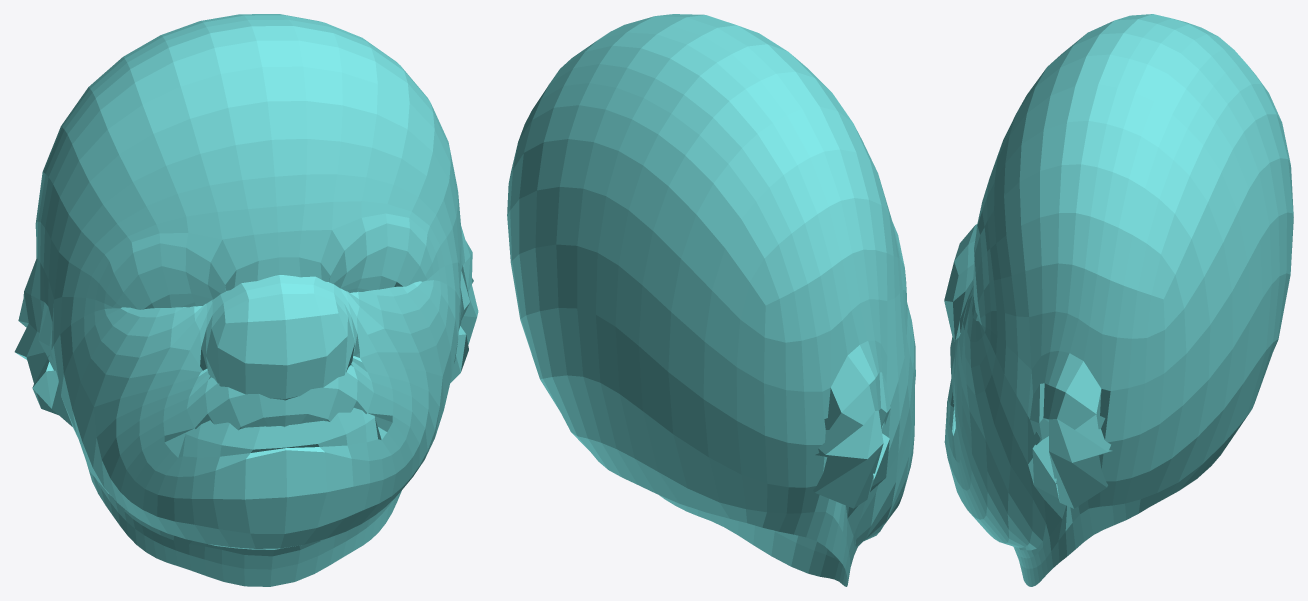
The model's file is head.fbx.
3 views of the same model, side by side, from view 1: azimuth 30°, elevation 25°; view 2: azimuth 150°, elevation 25°; view 3: azimuth 270°, elevation 25° (orthographic). The views are drawn at different scales.
Parts seen in each view (by area): view 1: hand:ZBrush_defualt_group; view 2: hand:ZBrush_defualt_group; view 3: hand:ZBrush_defualt_group.
Boxes of the visible parts, box(x1,y1,x2,y2) form: hand:ZBrush_defualt_group: box(14, 14, 478, 586); hand:ZBrush_defualt_group: box(507, 14, 915, 586); hand:ZBrush_defualt_group: box(944, 14, 1293, 586).
Bounding box in the file's own units: 0.3054 × 0.3902 × 0.228.
